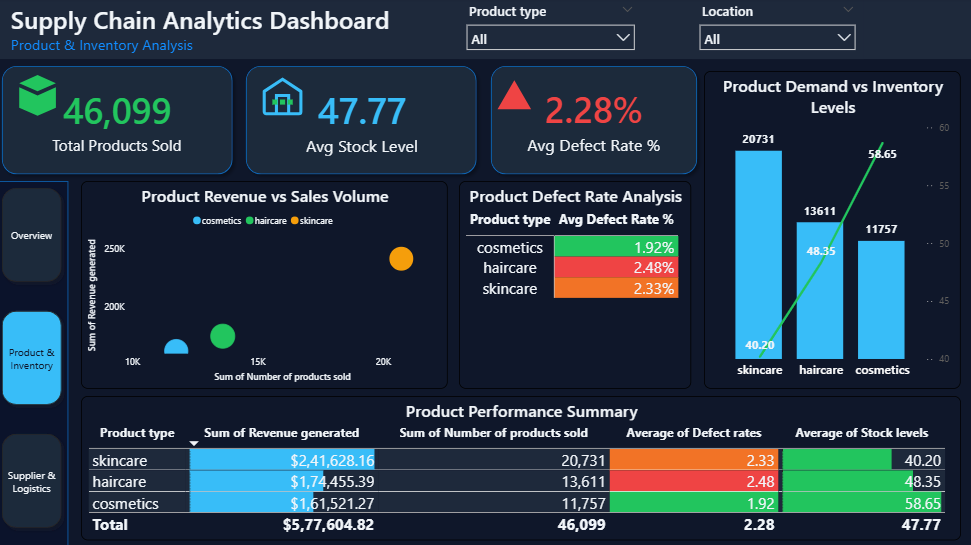

The page's visual inventory and layout, read from the dashboard file:
{"tool":"powerbi","page":{"name":"Product & Inventory","canvas":[1280,720],"ordinal":1},"visuals":[{"type":"shape","box":[0,240,96,480],"z":0},{"type":"shape","box":[0,0,1600,80],"z":1000},{"type":"textbox","box":[16,0,512,80],"z":2000},{"type":"pageNavigator","box":[0,240,96,464],"z":3000},{"type":"shape","box":[0,80,320,160],"z":4000},{"type":"cardVisual","fields":{"Data":["location_performance.Total Products Sold"]},"box":[16,96,288,128],"z":5000},{"type":"image","box":[16,96,80,64],"z":6000},{"type":"shape","box":[320,80,320,160],"z":7000},{"type":"cardVisual","fields":{"Data":["location_performance.Avg Stock Level"]},"box":[336,96,288,128],"z":8000},{"type":"shape","box":[640,80,288,160],"z":9000},{"type":"cardVisual","fields":{"Data":["location_performance.Avg Defect Rate"]},"box":[656,96,256,128],"z":10000},{"type":"image","box":[656,96,48,64],"z":11000},{"type":"lineClusteredColumnComboChart","title":"Product Demand vs Inventory Levels","fields":{"Category":["supply_chain_data.Product type"],"Y":["Sum(supply_chain_data.Number of products sold)"],"Y2":["Avg(supply_chain_data.Stock levels)"]},"box":[928,96,336,416],"z":12000},{"type":"pivotTable","title":"Product Defect Rate Analysis","fields":{"Rows":["supply_chain_data.Product type"],"Values":["location_performance.Avg Defect Rate %"]},"box":[608,240,304,272],"z":13000},{"type":"scatterChart","title":"Product Revenue vs Sales Volume","fields":{"X":["Sum(supply_chain_data.Number of products sold)"],"Y":["Sum(supply_chain_data.Revenue generated)"],"Series":["supply_chain_data.Product type"],"Size":["Sum(supply_chain_data.Stock levels)"]},"box":[112,240,480,272],"z":14000},{"type":"tableEx","title":"Product Performance Summary","fields":{"Values":["supply_chain_data.Product type","Sum(supply_chain_data.Revenue generated)","Sum(supply_chain_data.Number of products sold)","Avg(supply_chain_data.Defect rates)","Avg(supply_chain_data.Stock levels)"]},"box":[113,521,1152,189],"z":15000},{"type":"slicer","title":"Product Type","fields":{"Values":["product_performance.Product type"]},"box":[608,0,240,80],"z":16000},{"type":"slicer","title":"Product Type","fields":{"Values":["supply_chain_data.Location"]},"box":[912,0,224,80],"z":18000},{"type":"image","box":[336,96,80,64],"z":19000}]}

Visuals, with their boxes in screenshot pixels (x1, y1, x2, y2), scaled from the page's 1280x720 canvas onto the 971x545 screenshot:
shape: Rect(0, 182, 73, 544)
shape: Rect(0, 0, 970, 61)
textbox: Rect(12, 0, 401, 61)
pageNavigator: Rect(0, 182, 73, 533)
shape: Rect(0, 61, 243, 182)
cardVisual - location_performance.Total Products Sold: Rect(12, 73, 231, 170)
image: Rect(12, 73, 73, 121)
shape: Rect(243, 61, 486, 182)
cardVisual - location_performance.Avg Stock Level: Rect(255, 73, 473, 170)
shape: Rect(486, 61, 704, 182)
cardVisual - location_performance.Avg Defect Rate: Rect(498, 73, 692, 170)
image: Rect(498, 73, 534, 121)
"Product Demand vs Inventory Levels" lineClusteredColumnComboChart: Rect(704, 73, 959, 388)
"Product Defect Rate Analysis" pivotTable: Rect(461, 182, 692, 388)
"Product Revenue vs Sales Volume" scatterChart: Rect(85, 182, 449, 388)
"Product Performance Summary" tableEx: Rect(86, 394, 960, 537)
"Product Type" slicer: Rect(461, 0, 643, 61)
"Product Type" slicer: Rect(692, 0, 862, 61)
image: Rect(255, 73, 316, 121)
